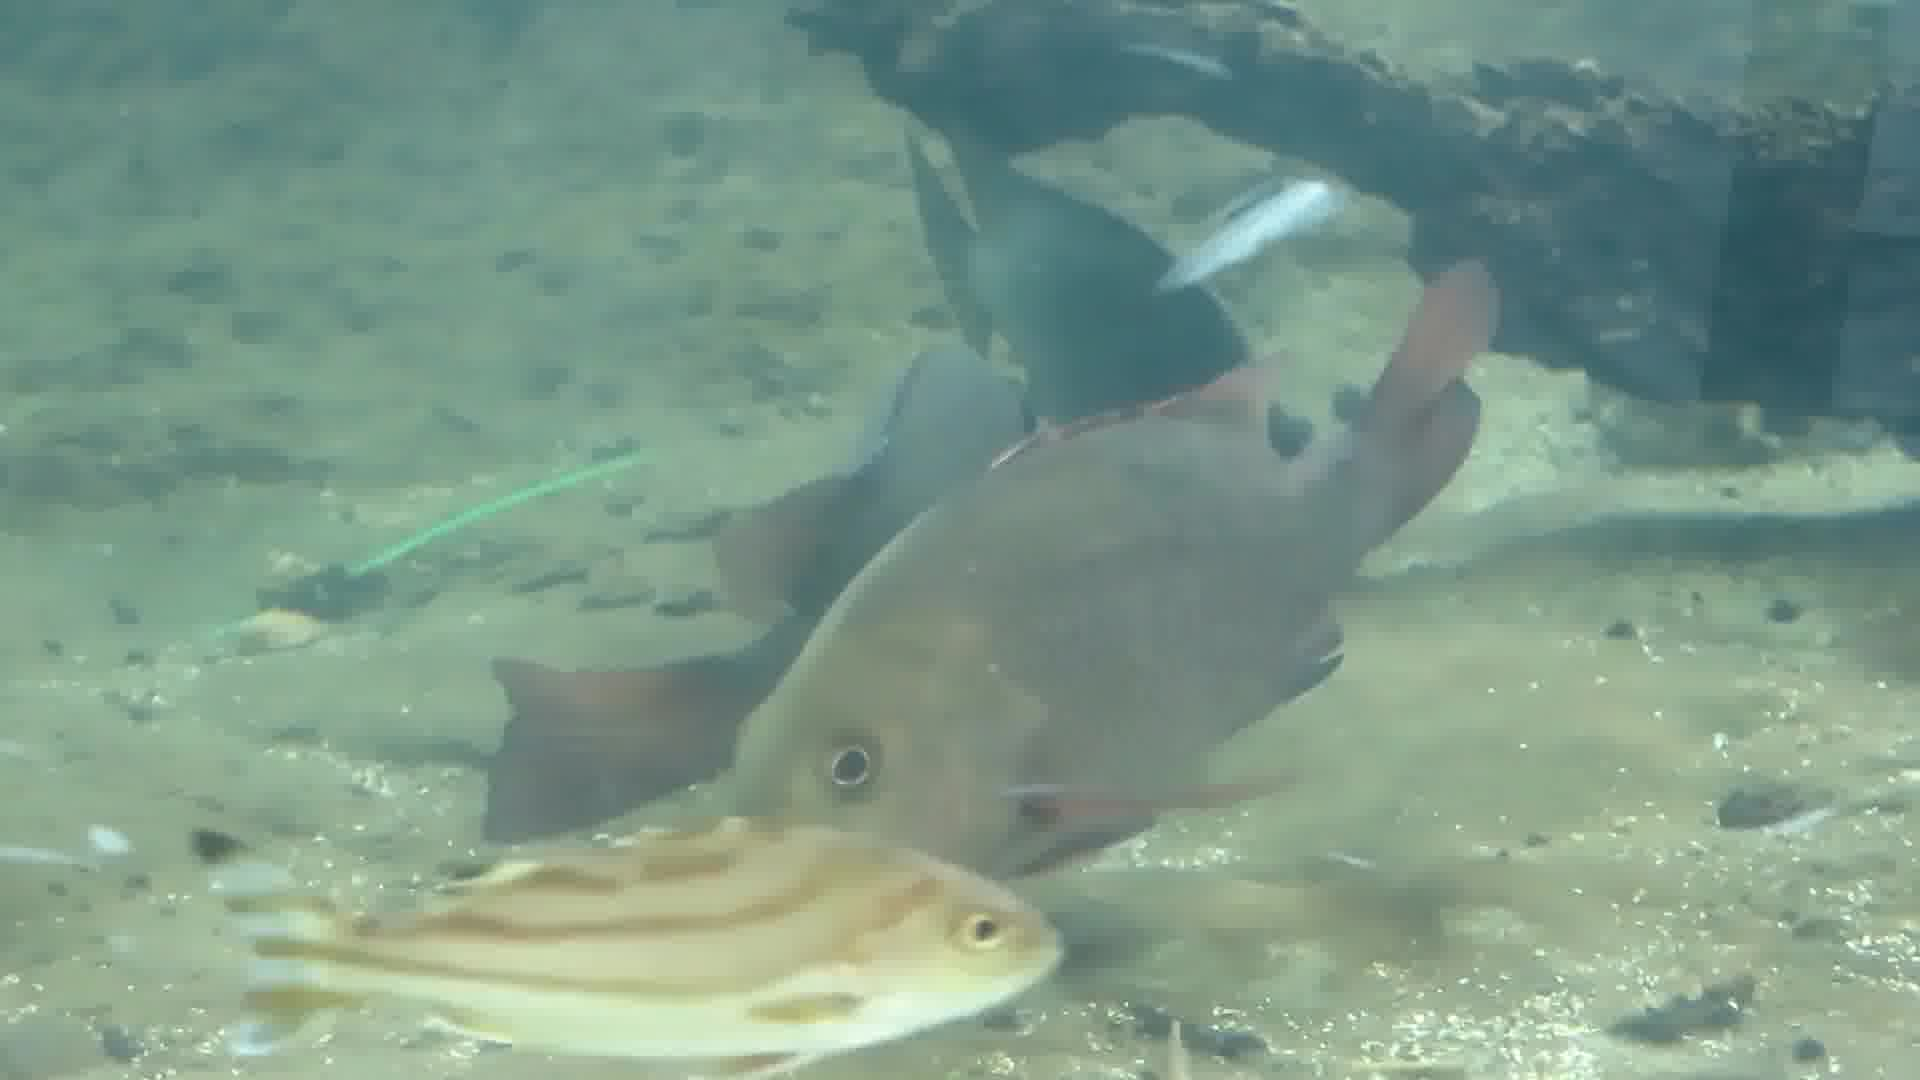Lutjanus argentimaculatus: (709, 371, 1532, 858)
